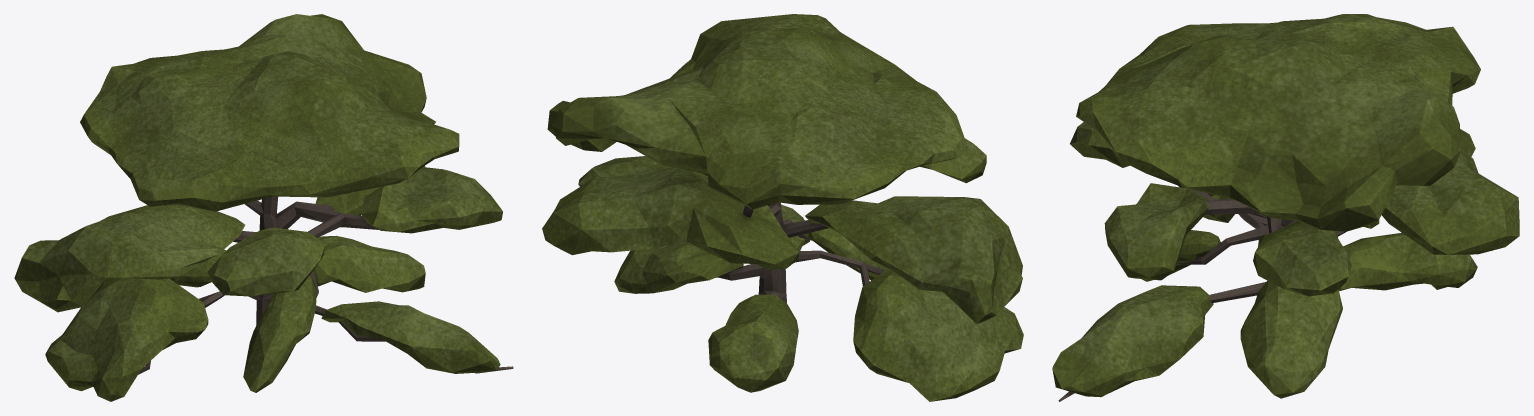
File: CedarTree.OBJ
The picture shows the model from 3 angles, left to right: view 1: azimuth 30°, elevation 25°; view 2: azimuth 150°, elevation 25°; view 3: azimuth 270°, elevation 25°; orthographic projection. The views are drawn at different scales.
Visible parts, largest first — view 1: CedarTree_Mesh; view 2: CedarTree_Mesh; view 3: CedarTree_Mesh.
Boxes of the visible parts, x1,y1,x2,y2 form: CedarTree_Mesh: (14, 14, 513, 401); CedarTree_Mesh: (542, 14, 1023, 401); CedarTree_Mesh: (1052, 14, 1519, 401).
Bounding box in the file's own units: 17.57 × 11.64 × 15.54.
Materials: 1 (1 with a texture image).
